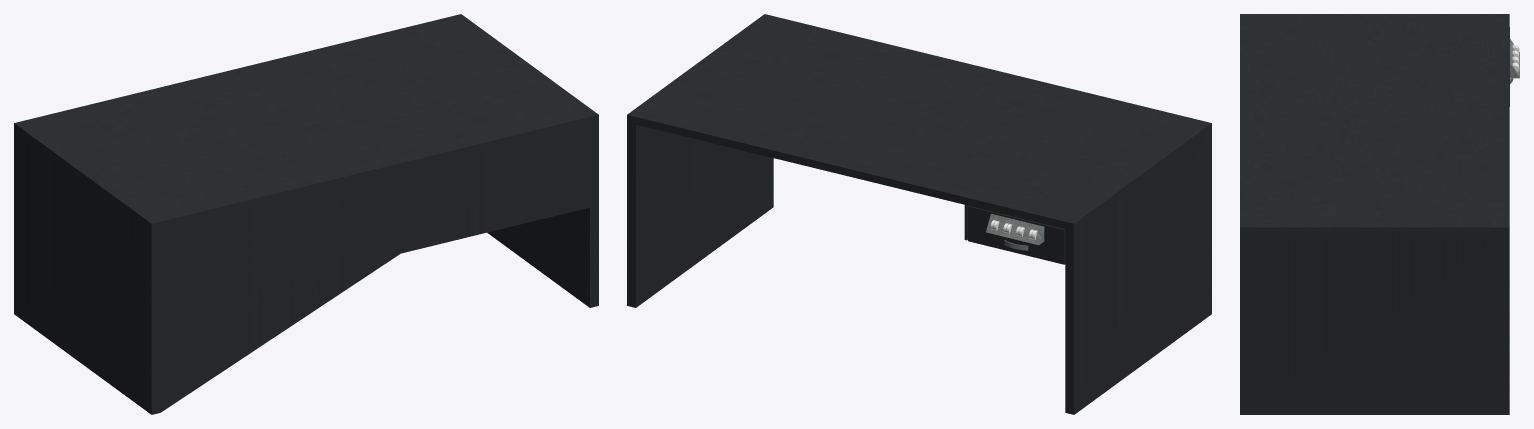
The model's file is Desk_new.fbx.
3 views of the same model, side by side, from view 1: azimuth 30°, elevation 25°; view 2: azimuth 150°, elevation 25°; view 3: azimuth 270°, elevation 25° (orthographic). The views are drawn at different scales.
Visible parts, largest first — view 1: pCube2; view 2: pCube2, pCube7; view 3: pCube2, pCube7.
Boxes of the visible parts, x1,y1,x2,y2 form: pCube2: (14, 14, 598, 414); pCube2: (627, 14, 1211, 414); pCube7: (968, 206, 1065, 264); pCube2: (1240, 14, 1509, 414); pCube7: (1509, 27, 1519, 106).
Size of the model in its own units: 155 by 63.24 by 85.72.
Materials: 6 (6 with a texture image).
